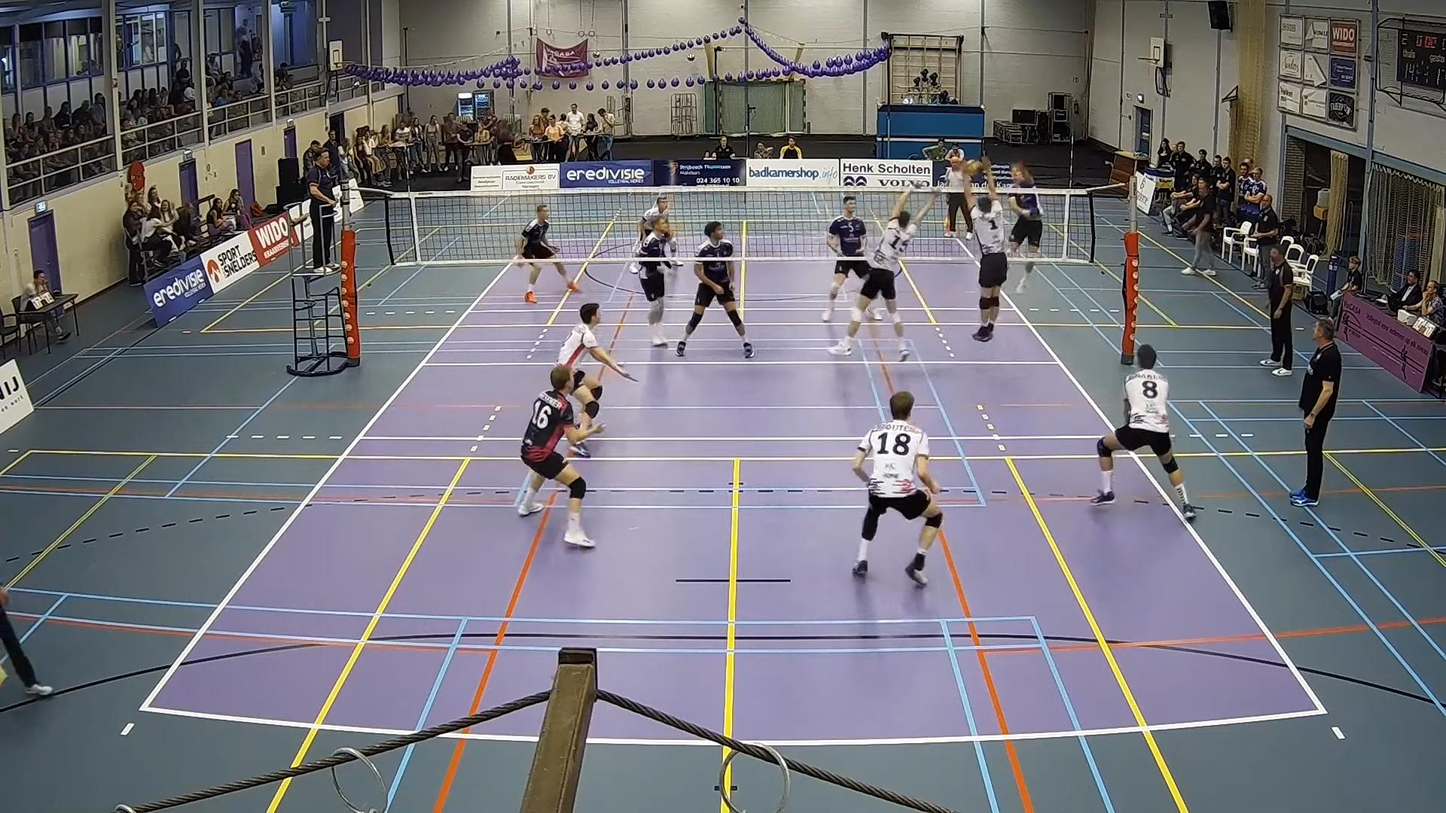Attack: (990, 156, 1048, 292)
Block: (822, 177, 937, 366), (959, 168, 1016, 345)
Player: (1091, 345, 1196, 520), (853, 391, 942, 586), (518, 365, 604, 547), (676, 221, 753, 358), (557, 303, 635, 430), (822, 196, 868, 321), (636, 215, 676, 346), (516, 204, 556, 303), (637, 194, 669, 256)
ball: (960, 161, 989, 175)
